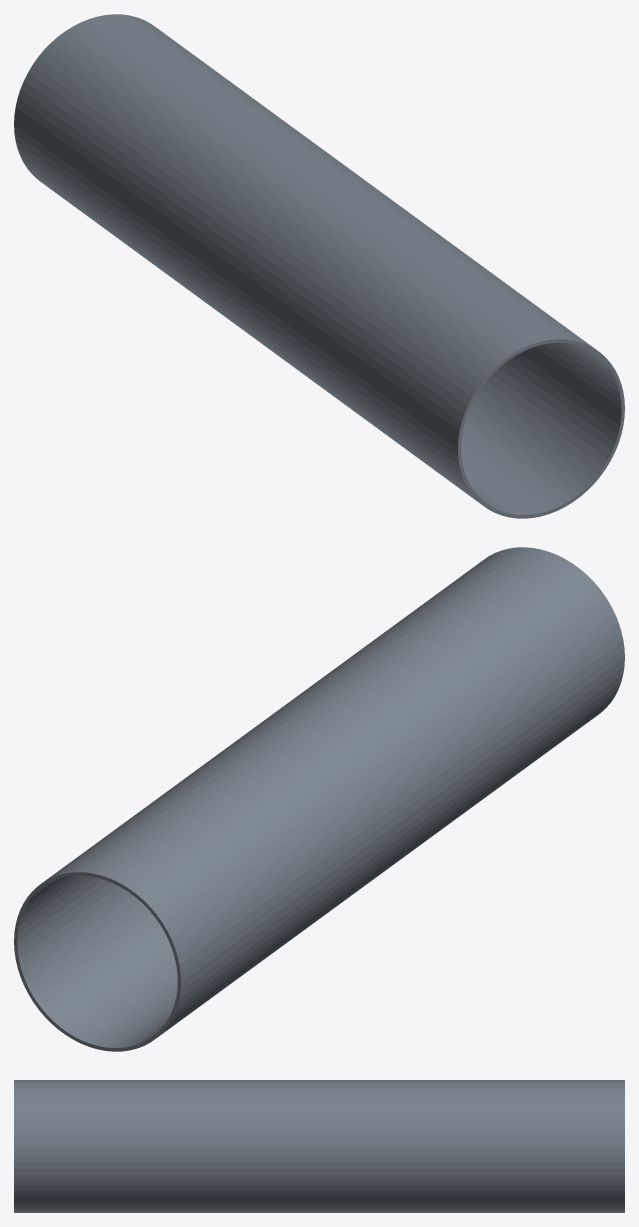
The picture shows the model from 3 angles, top to bottom: view 1: azimuth 30°, elevation 25°; view 2: azimuth 150°, elevation 25°; view 3: azimuth 270°, elevation 25°; orthographic projection. The views are drawn at different scales.
Parts seen in each view (by area): view 1: large_alloy_tube; view 2: large_alloy_tube; view 3: large_alloy_tube.
Part boxes in pixels (x1,y1,x2,y2): large_alloy_tube: (14, 14, 624, 518); large_alloy_tube: (14, 547, 624, 1051); large_alloy_tube: (14, 1080, 624, 1212).
Size of the model in its own units: 0.025 by 0.025 by 0.115.
